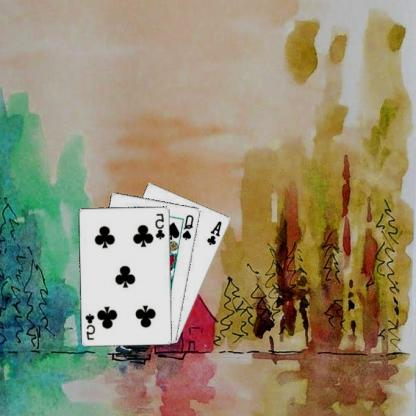5C: (84, 310, 98, 340), (155, 210, 168, 240)
AC: (206, 218, 225, 246)
QS: (182, 212, 197, 241)
